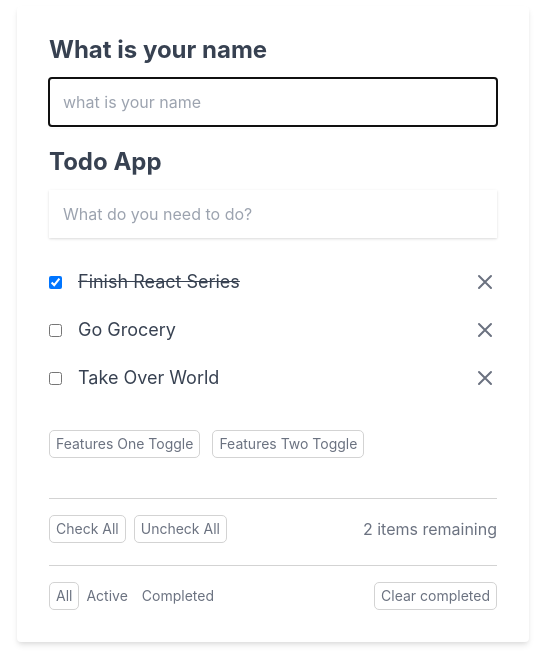
Test: show correct remaining todo
expect the text "2 items remaining" is shown: met, box [363, 521, 497, 537]
Click the checkbox next to "Go Grocery". click: (56, 330)
box: [49, 324, 62, 336]
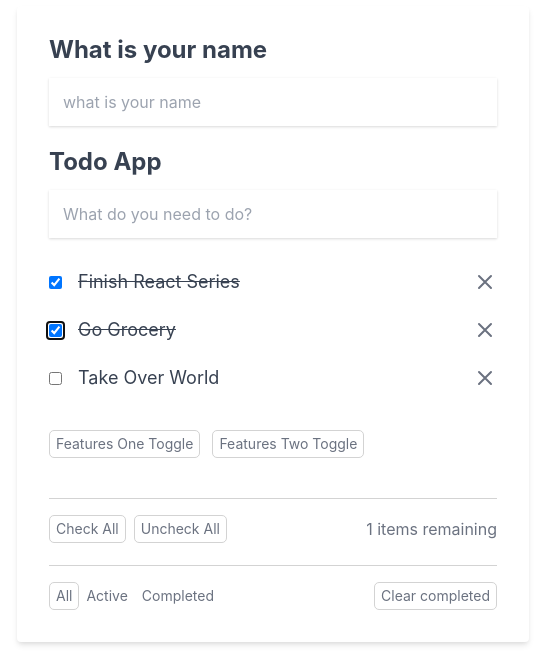
expect the text "1 items remaining" is shown: met, box [366, 521, 497, 537]
